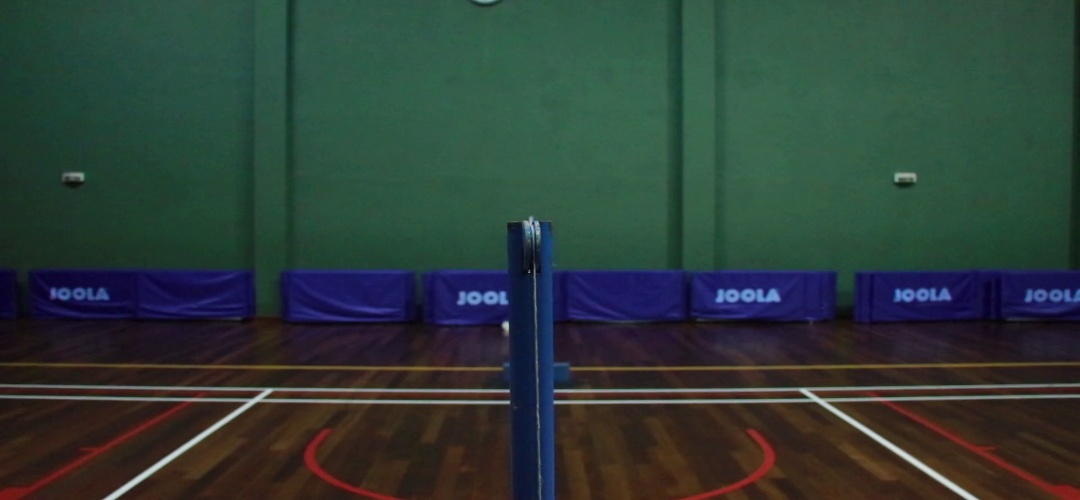c1: (236, 395, 277, 409)
c2: (793, 395, 845, 408)
net_level: (508, 221, 555, 291)
